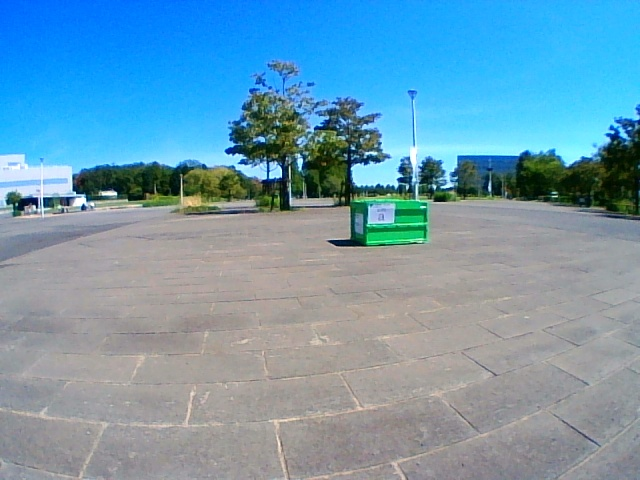green_box: (350, 200, 427, 242)
tag_a: (368, 205, 393, 223)
